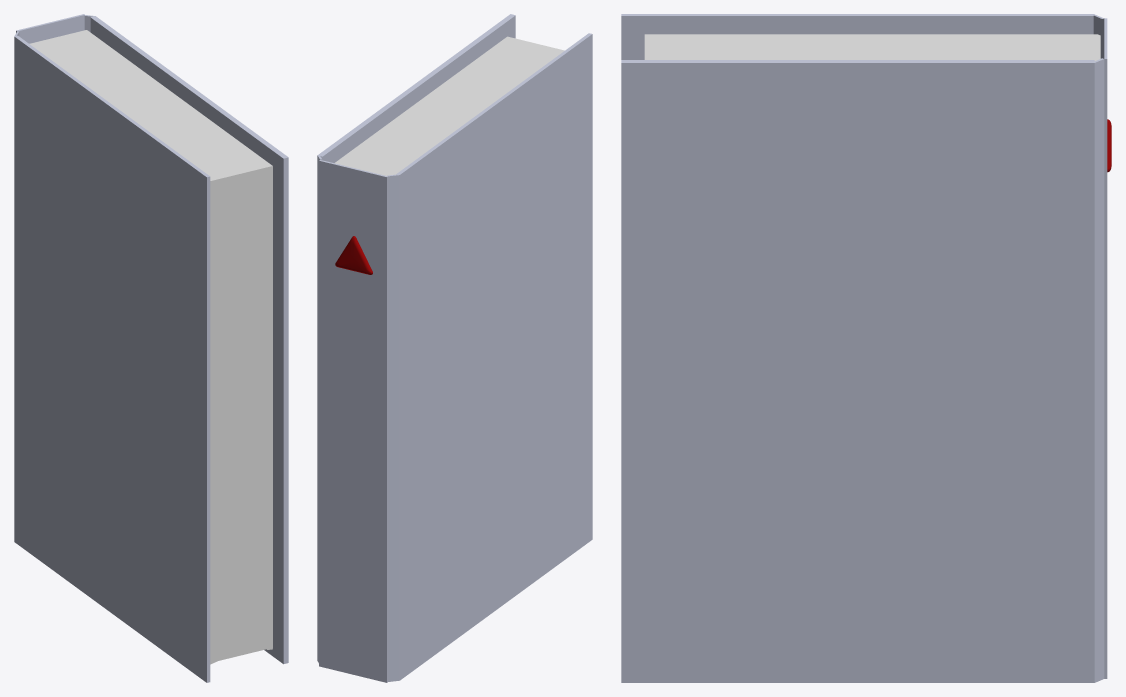
The model's file is book triangle.fbx.
The picture shows the model from 3 angles, left to right: view 1: azimuth 30°, elevation 25°; view 2: azimuth 150°, elevation 25°; view 3: azimuth 270°, elevation 25°; orthographic projection. The views are drawn at different scales.
Visible parts, largest first — view 1: pCube56; view 2: pCube56, pCylinder3; view 3: pCube56.
Part boxes in pixels (bbox=[...]): pCube56: bbox=[14, 14, 288, 682]; pCube56: bbox=[317, 14, 592, 682]; pCylinder3: bbox=[335, 236, 372, 274]; pCube56: bbox=[621, 14, 1107, 682].
Size of the model in its own units: 13.9 by 81.98 by 58.76.
